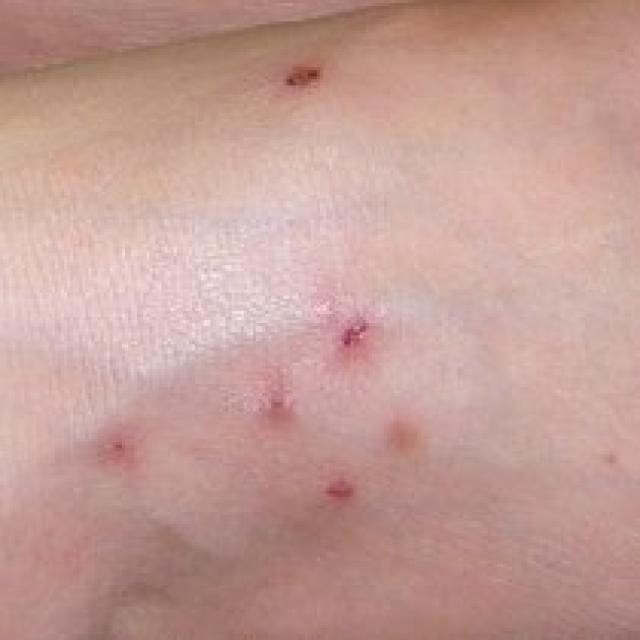kan emici bocekler: (232, 38, 378, 139), (300, 282, 427, 387), (84, 408, 198, 492), (368, 412, 474, 476), (307, 472, 383, 518), (251, 390, 308, 441)
